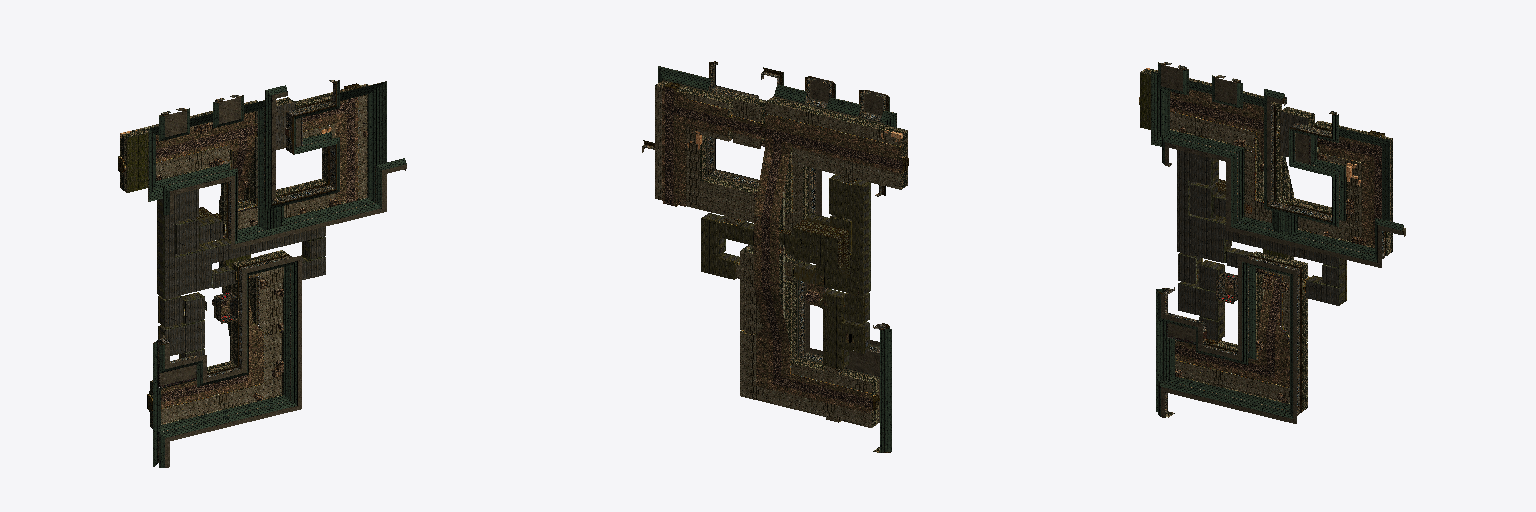
3 renders of one model, left to right at view 1: azimuth 30°, elevation 25°; view 2: azimuth 150°, elevation 25°; view 3: azimuth 330°, elevation 25°, orthographic.
Parts seen in each view (by area): view 1: BSP_Object.model_0.002; view 2: BSP_Object.model_0.002; view 3: BSP_Object.model_0.002.
Boxes of the visible parts, box(x1,y1,x2,y2) form: BSP_Object.model_0.002: box(118, 80, 406, 467); BSP_Object.model_0.002: box(642, 61, 908, 452); BSP_Object.model_0.002: box(1139, 62, 1405, 423).
Bounding box in the file's own units: 108 × 133 × 19.62.
64 materials, 62 textured.